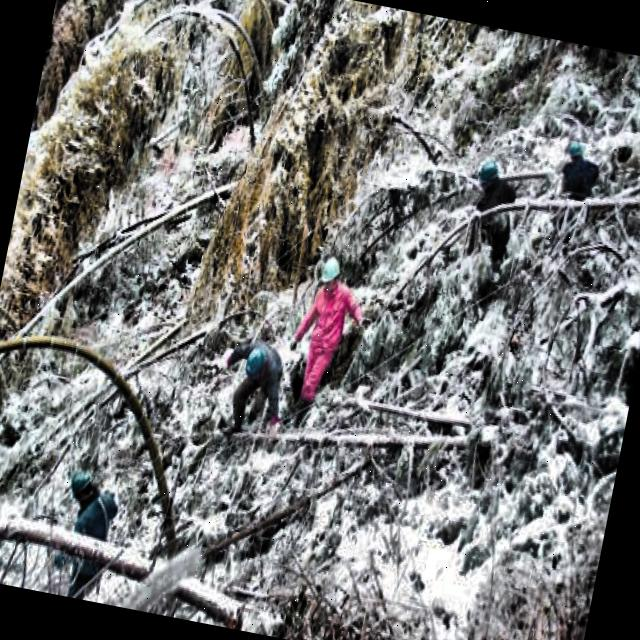helmet: (239, 336, 273, 386), (314, 250, 348, 300), (69, 463, 101, 506), (474, 158, 503, 196)
